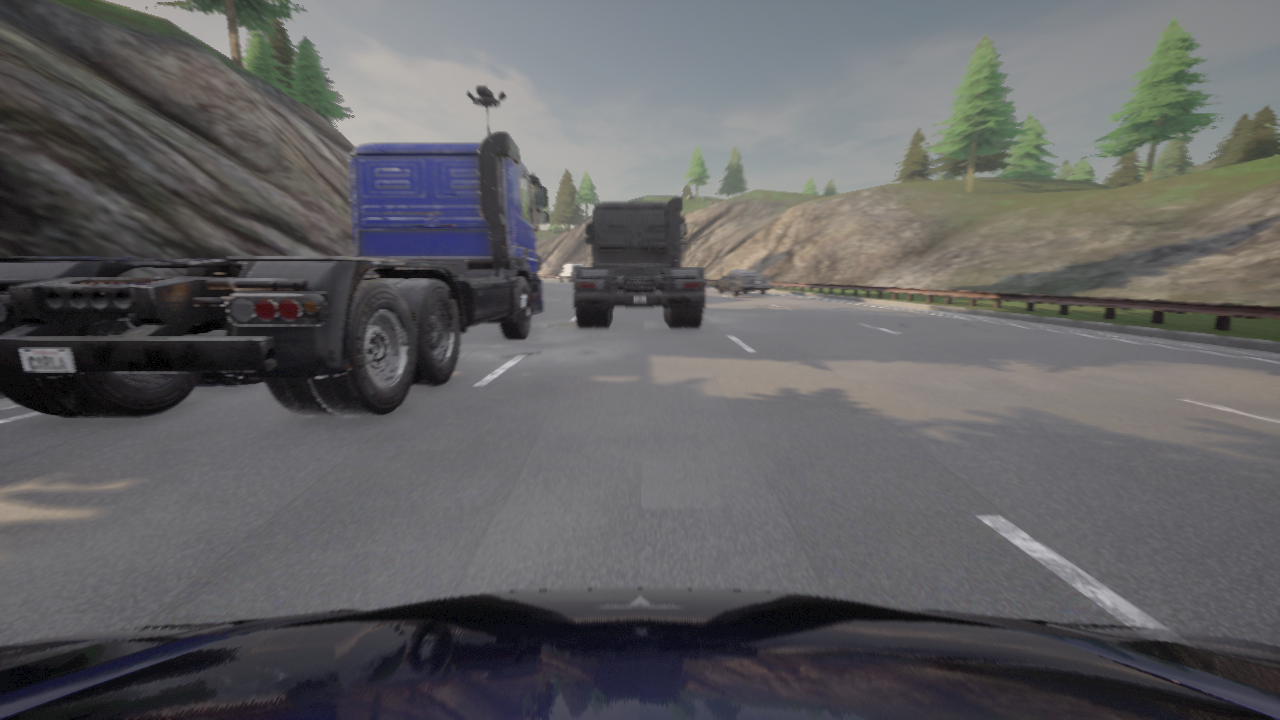cyclist: (0, 588, 1279, 719), (0, 131, 548, 416), (574, 197, 704, 327), (715, 270, 771, 294), (559, 263, 583, 281)
